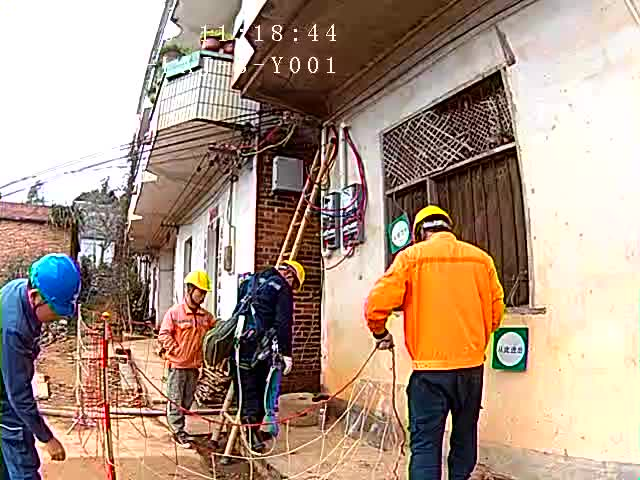downcloth: (166, 365, 203, 437)
downsuit: (403, 365, 485, 480), (230, 348, 274, 443)
halt: (30, 254, 82, 313), (413, 205, 455, 241), (182, 269, 213, 307), (274, 260, 305, 292)
hand: (42, 435, 66, 467), (375, 332, 396, 351)
inear: (25, 284, 47, 311), (185, 285, 199, 302)
intosign: (491, 325, 528, 374)
person: (366, 201, 509, 480), (1, 253, 84, 480), (230, 260, 304, 455), (162, 266, 217, 446)
upsuit: (1, 277, 48, 416), (235, 270, 294, 345)
wglove: (282, 352, 297, 372)
worksign: (385, 214, 412, 252)
yupsuit: (370, 237, 499, 368), (162, 303, 215, 367)
